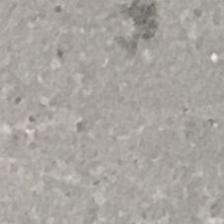Non_Crack: (19, 22, 221, 214)
